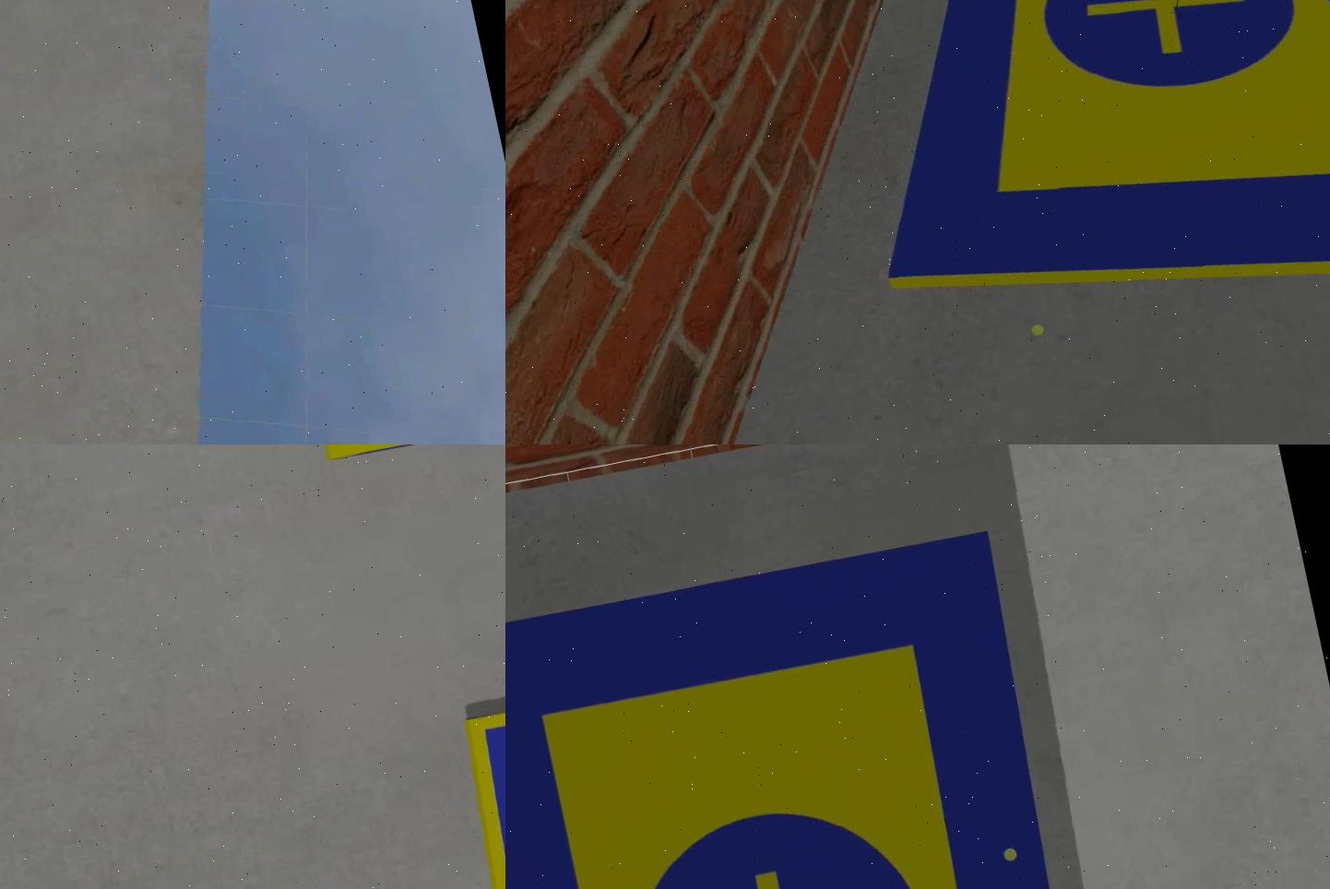large_base: (505, 521, 1098, 889), (803, 1, 1328, 398)
small_base: (455, 676, 505, 889)
